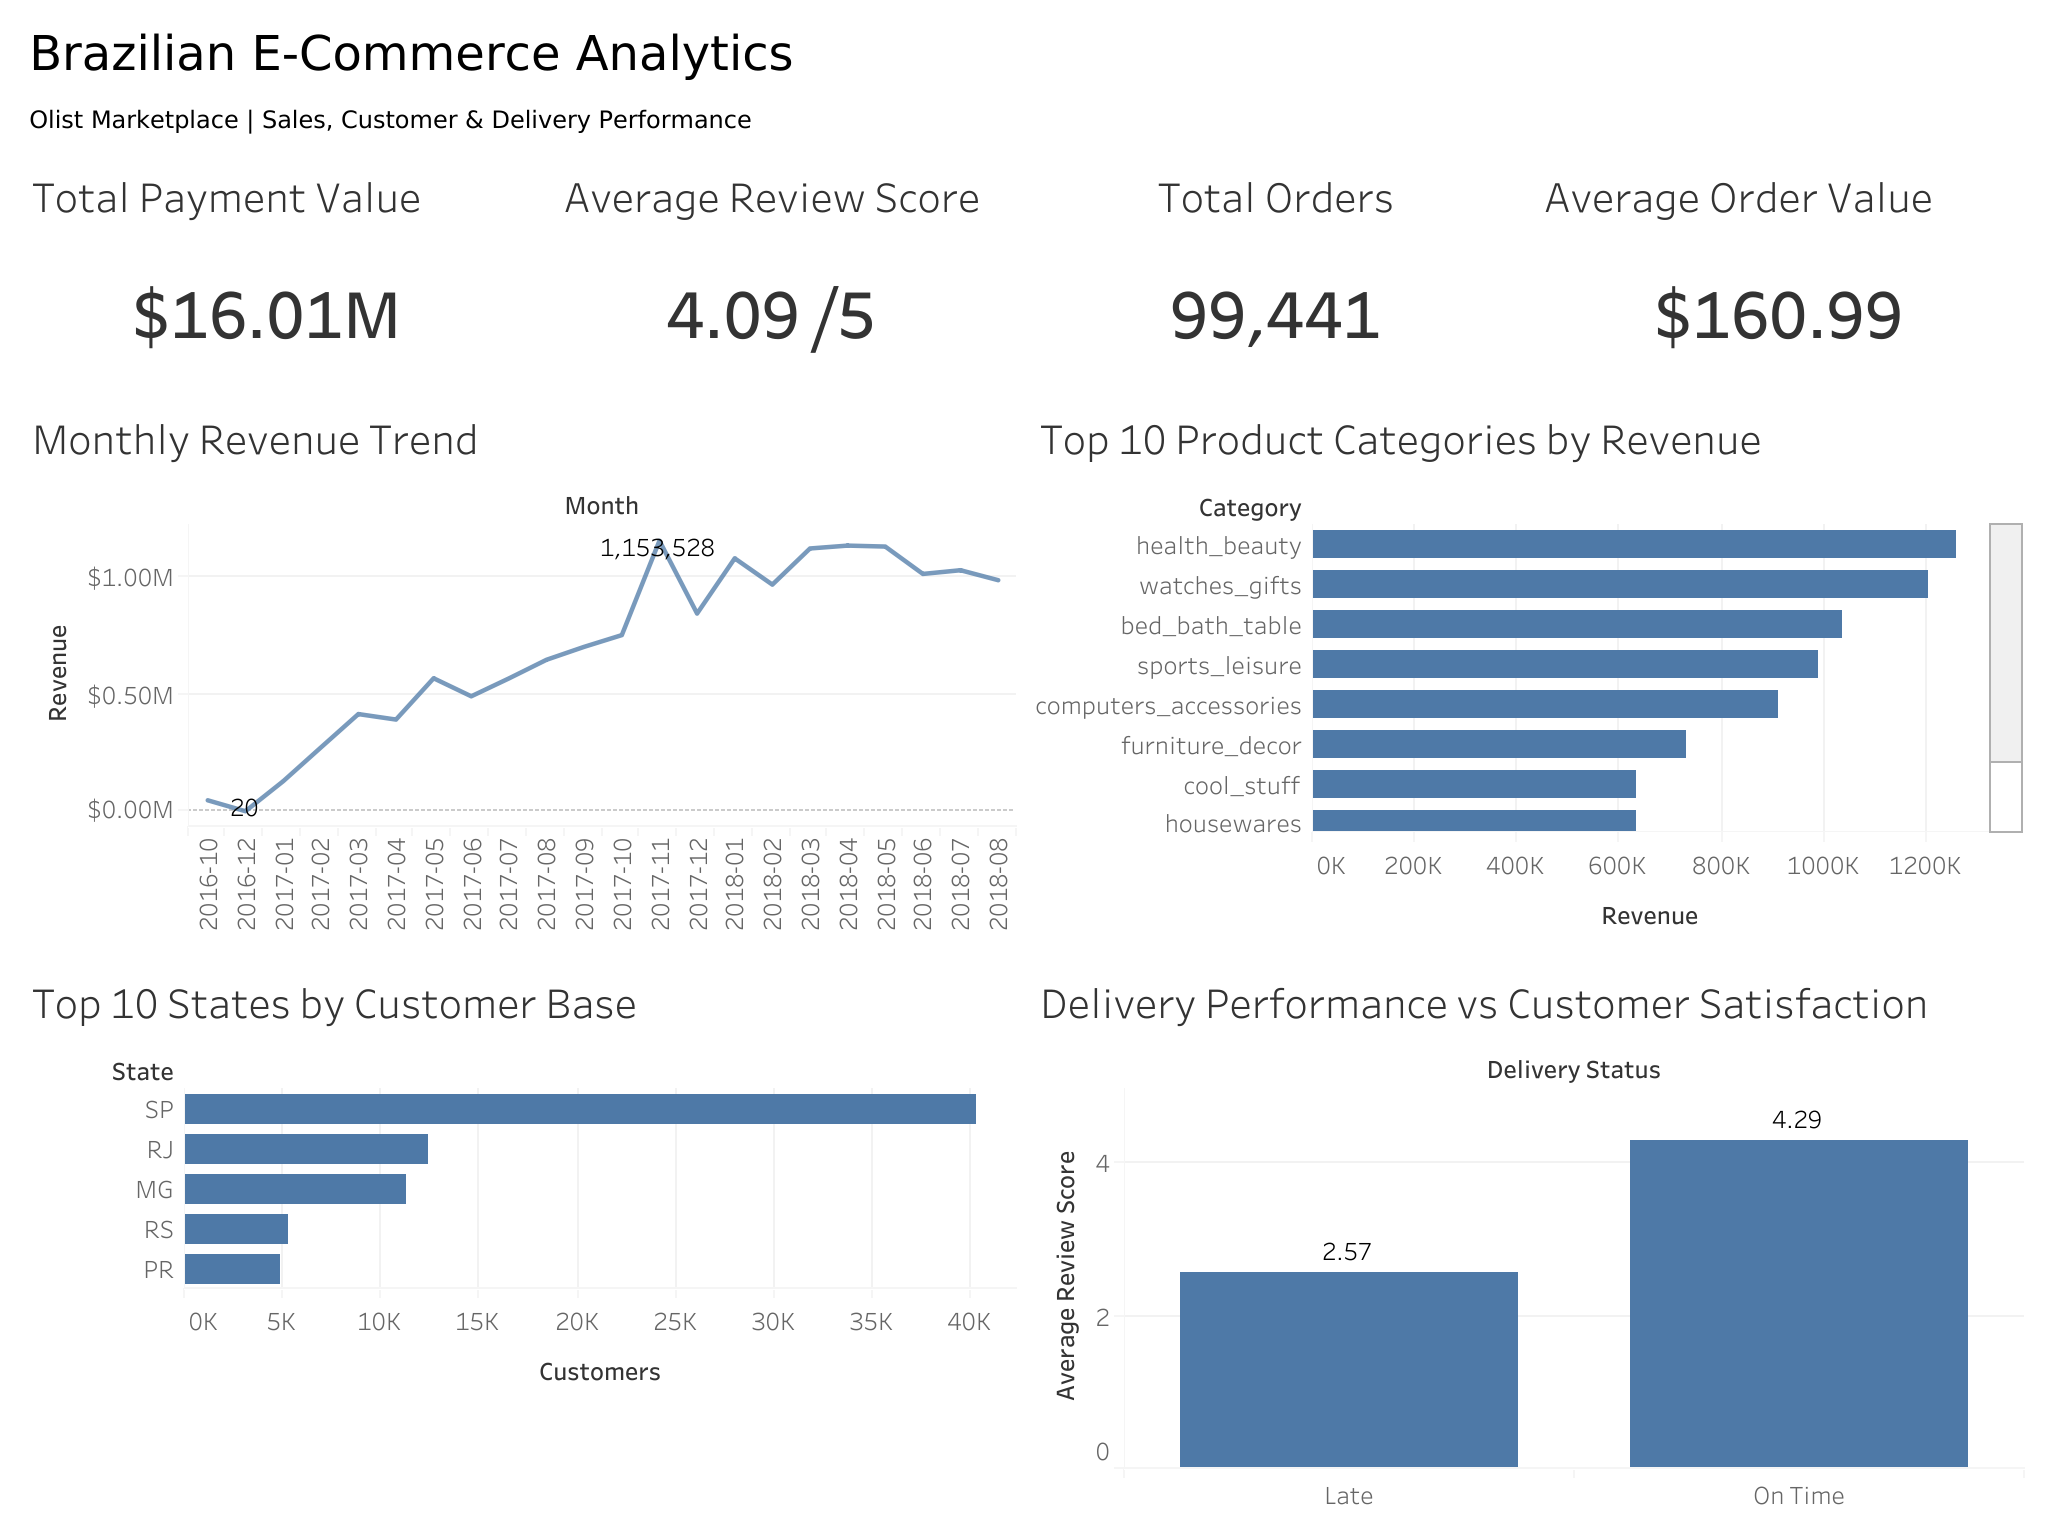

The page's visual inventory and layout, read from the dashboard file:
{"tool":"tableau","page":{"name":"E-Commerce Executive Dashboard","canvas":[1024,768],"ordinal":0},"visuals":[{"type":"title","box":[8,8,1008,37]},{"type":"text","box":[8,45,1008,29.3]},{"type":"worksheet","title":"Total Payment Value","mark":"Text","box":[8,74.3,252,120.2]},{"type":"worksheet","title":"Average Review Score","mark":"Text","box":[260,74.3,252,120.2]},{"type":"worksheet","title":"Total Orders","mark":"Text","box":[511.9,74.3,252,120.2]},{"type":"worksheet","title":"Average Order Value","mark":"Automatic","box":[763.9,74.3,252.1,120.2]},{"type":"worksheet","title":"Monthly Revenue Trend","mark":"Line","rows":["revenue"],"cols":["month"],"box":[8,194.6,504,282.7]},{"type":"worksheet","title":"Top Product Categories","mark":"Bar","rows":["category"],"cols":["revenue"],"box":[511.9,194.6,504.1,282.7]},{"type":"worksheet","title":"Customers by State","mark":"Automatic","rows":["state"],"cols":["customers"],"box":[8,477.2,504,282.8]},{"type":"worksheet","title":"Delivery Performance vs Customer Satisfaction","mark":"Bar","rows":["average_review_score"],"cols":["delivery_status"],"box":[511.9,477.2,504.1,282.8]}]}

Visuals, with their boxes in screenshot pixels (x1, y1, x2, y2), scaled from the page's 1024x768 canvas onto the 2046x1534 screenshot:
title: [16,16,2030,90]
text: [16,90,2030,148]
"Total Payment Value" worksheet (Text marks): [16,148,519,388]
"Average Review Score" worksheet (Text marks): [519,148,1023,388]
"Total Orders" worksheet (Text marks): [1023,148,1526,388]
"Average Order Value" worksheet: [1526,148,2030,388]
"Monthly Revenue Trend" worksheet (Line marks): [16,389,1023,953]
"Top Product Categories" worksheet (Bar marks): [1023,389,2030,953]
"Customers by State" worksheet: [16,953,1023,1518]
"Delivery Performance vs Customer Satisfaction" worksheet (Bar marks): [1023,953,2030,1518]
